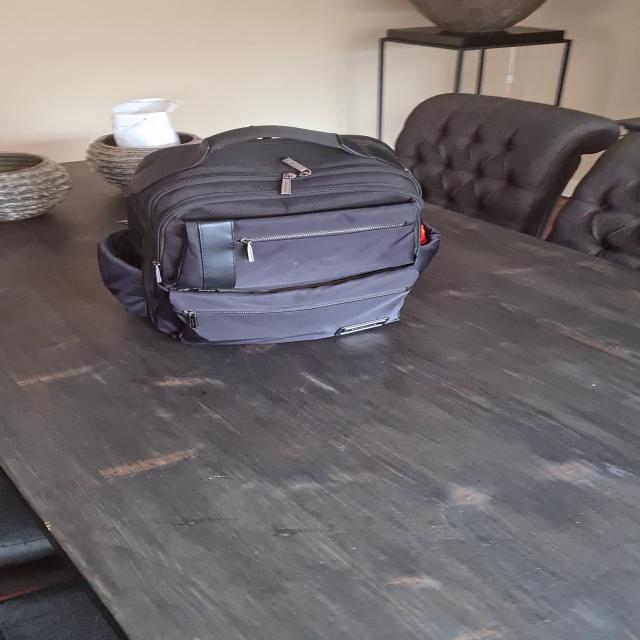backpack: (80, 108, 452, 350)
